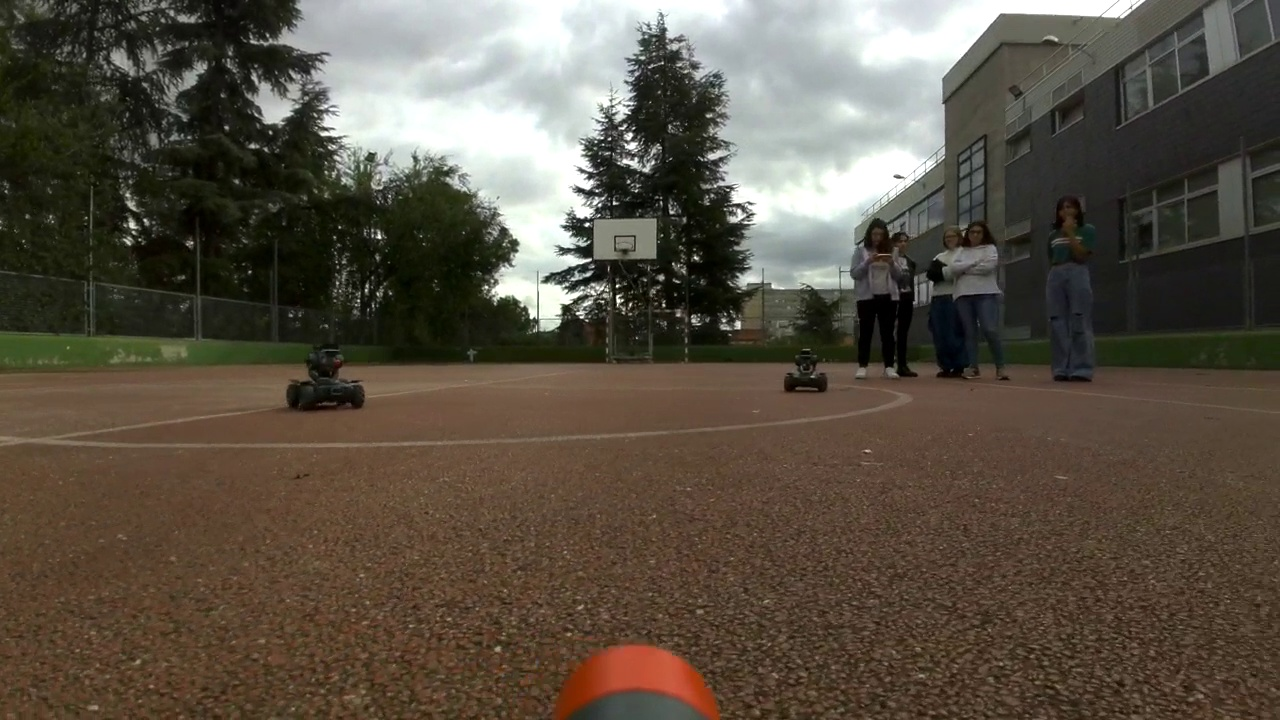robot: (286, 341, 366, 411), (784, 350, 828, 392)
